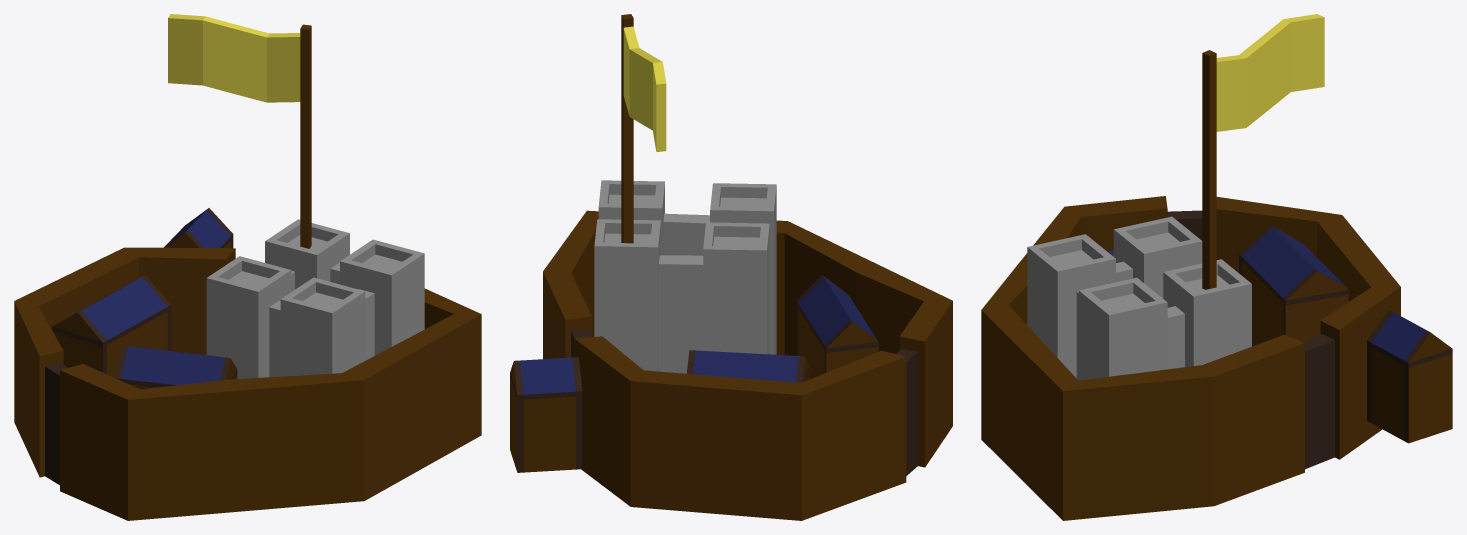
File: SM_TileP2Outpost.fbx
3 renders of one model, left to right at view 1: azimuth 30°, elevation 25°; view 2: azimuth 150°, elevation 25°; view 3: azimuth 270°, elevation 25°, orthographic. The views are drawn at different scales.
Parts seen in each view (by area): view 1: TileP2Outpost, TileP2OutpostFlag; view 2: TileP2Outpost, TileP2OutpostFlag; view 3: TileP2Outpost, TileP2OutpostFlag.
Part boxes in pixels (x1,y1,x2,y2): TileP2Outpost: (14, 208, 481, 520); TileP2OutpostFlag: (168, 14, 311, 248); TileP2Outpost: (510, 180, 952, 520); TileP2OutpostFlag: (621, 14, 666, 243); TileP2Outpost: (981, 196, 1452, 520); TileP2OutpostFlag: (1202, 14, 1324, 289).
Bounding box in the file's own units: 376 × 368 × 382.
